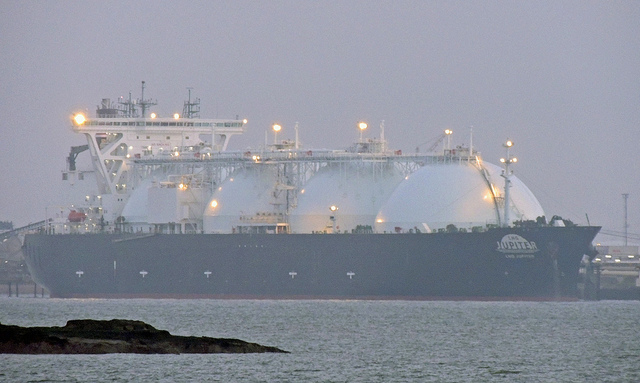LNG_ship: (18, 80, 602, 302)
